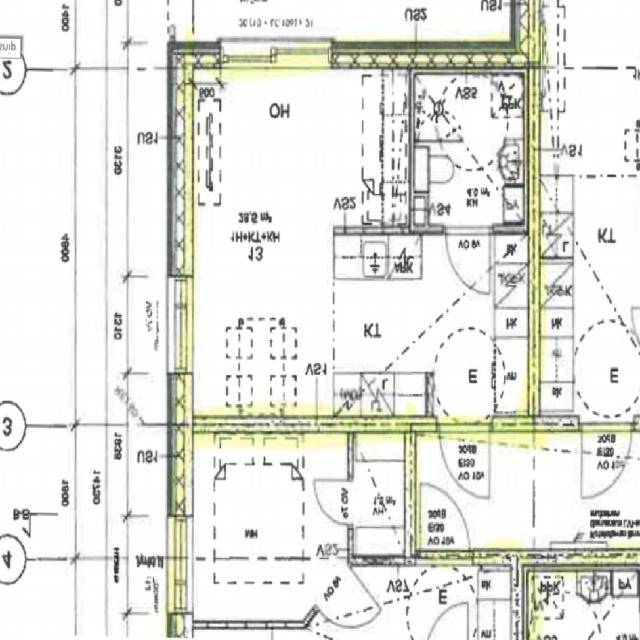door: (440, 416, 490, 499), (445, 225, 490, 294)
